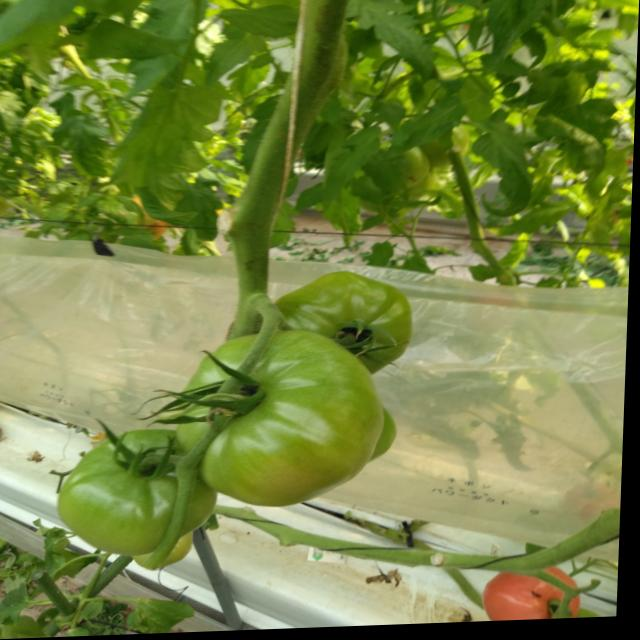yesil: (53, 268, 455, 562)
